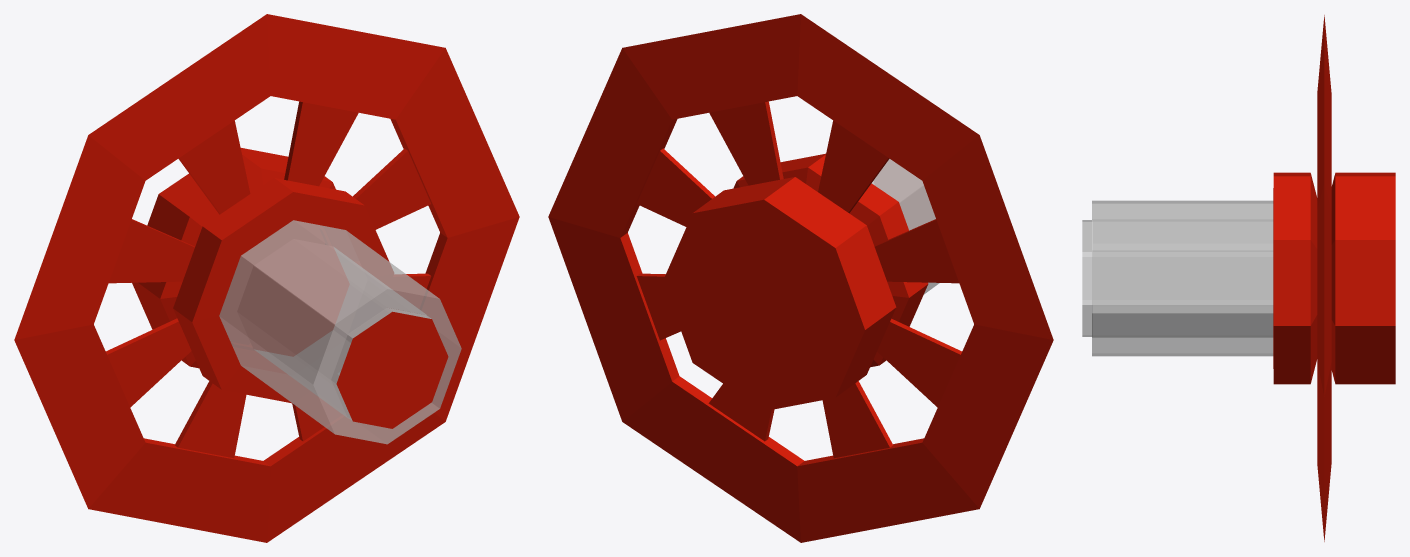
Rendered from spawn-drop.fbx.
The picture shows the model from 3 angles, left to right: view 1: azimuth 30°, elevation 25°; view 2: azimuth 150°, elevation 25°; view 3: azimuth 270°, elevation 25°; orthographic projection. The views are drawn at different scales.
Parts seen in each view (by area): view 1: spawn-drop_gyro, spawn-drop, spawn-drop_hatch; view 2: spawn-drop_gyro, spawn-drop, spawn-drop_hatch; view 3: spawn-drop, spawn-drop_gyro, spawn-drop_hatch.
Boxes of the visible parts, left/top/right/bottom form: spawn-drop_gyro: left=14, top=14, right=519, bottom=542; spawn-drop: left=132, top=148, right=461, bottom=444; spawn-drop_hatch: left=331, top=308, right=448, bottom=428; spawn-drop_gyro: left=548, top=14, right=1053, bottom=542; spawn-drop: left=663, top=153, right=939, bottom=411; spawn-drop_hatch: left=872, top=159, right=935, bottom=229; spawn-drop: left=1092, top=172, right=1395, bottom=384; spawn-drop_gyro: left=1317, top=15, right=1331, bottom=541; spawn-drop_hatch: left=1082, top=220, right=1092, bottom=336.
Size of the model in its own units: 10 by 10 by 5.56.
